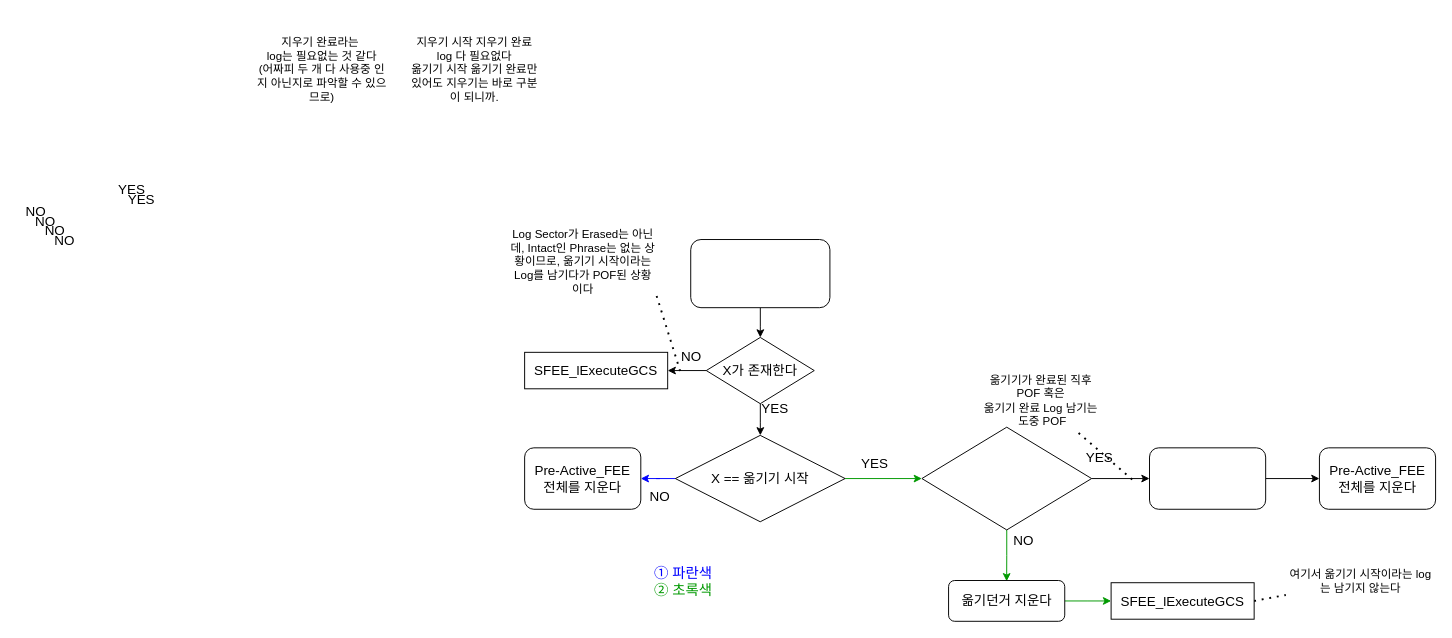
This 1452x638 diagram has some shape labels left out. Each missing label, with the box of its shape:
Pre-NonActive_FEE의 Log Sector에서 Last-Phrase를 찾는다. (X): (690, 239, 830, 308)
옮기기 완료라는 Log를 남긴다: (1149, 447, 1266, 509)
옮기기가 완료되었다: (921, 426, 1092, 530)
